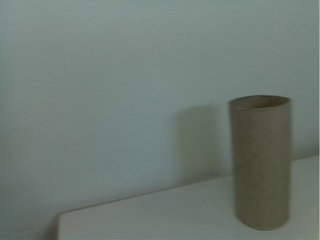rollo papel: (226, 94, 294, 232)
